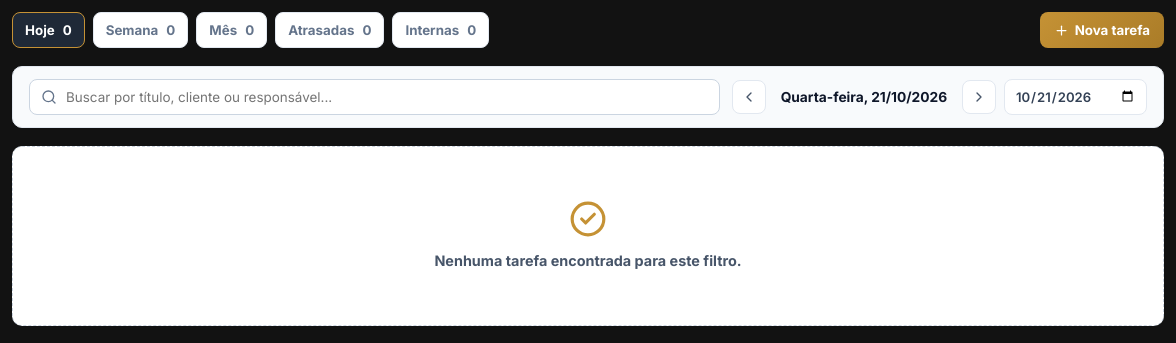
Test: MinhaFilaAtividades accessibility › expõe estado dos filtros e nomes acessíveis nos controles
Click the button "Semana 0": (140, 30) [93, 12, 188, 48]
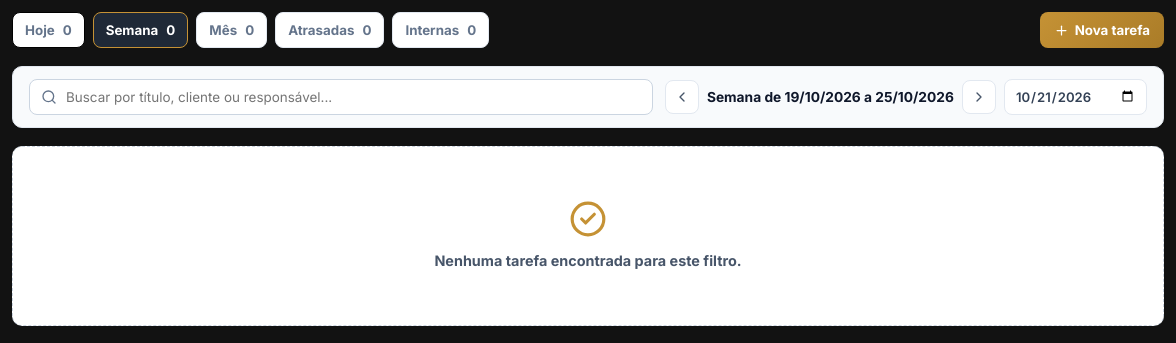
Expected: the button named "Período anterior" is shown, [665, 80, 699, 114]
Expected: the button "Hoje 0" is not pressed, [12, 12, 85, 48]
Expected: the button "Semana 0" is pressed, [93, 12, 188, 48]
In the field named "Buscar tarefas": (341, 97) [29, 79, 653, 115], type "folha"
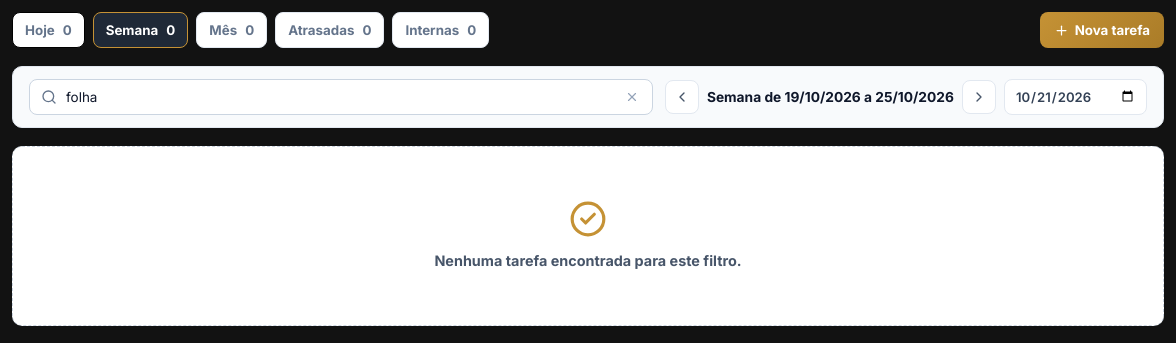
Expected: the button named "Limpar busca" is shown, [621, 86, 643, 108]
